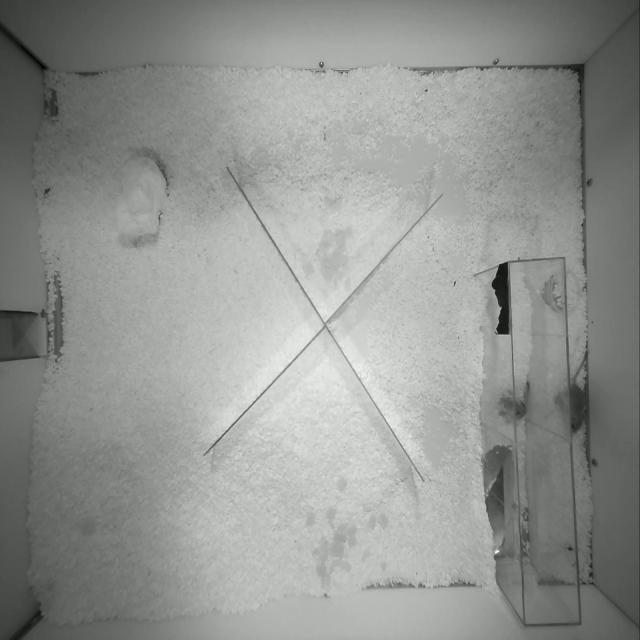pup_fluffy: (554, 352, 586, 431)
pup_spotted: (499, 381, 529, 421)
